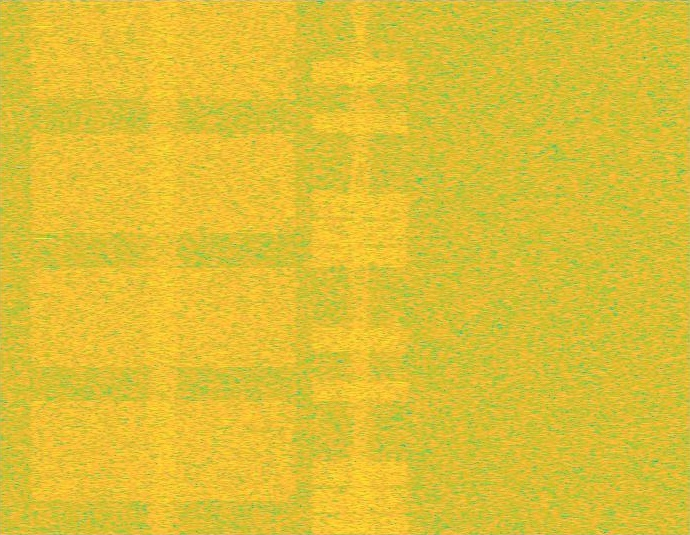5G: (25, 0, 301, 534)
DSSS: (145, 0, 182, 534), (348, 0, 372, 534)
LTE: (308, 0, 412, 534)
Radar: (36, 0, 50, 534)
